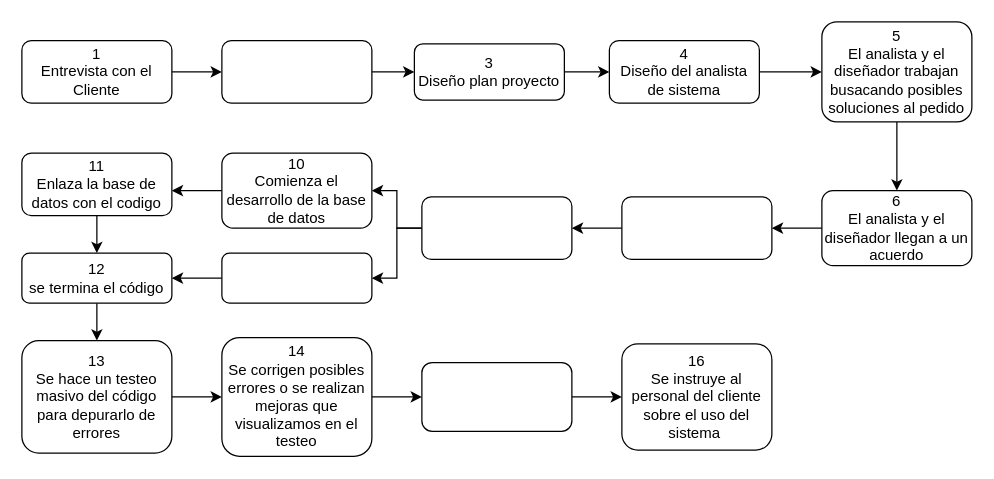
This 994x479 diagram has some shape labels left out. Here are the shapes that lost their labels. From the top down, the centre of each, then its label:
[296,71]: 2 Diagnostico entrevista
[496,227]: 8 Se pasa el diseño a los programadores
[696,227]: 7 Realizan el diseño de la solución acordada
[296,277]: 9 Se comienza el código del diseño
[496,396]: 15 Se entrega el sistema al cliente
